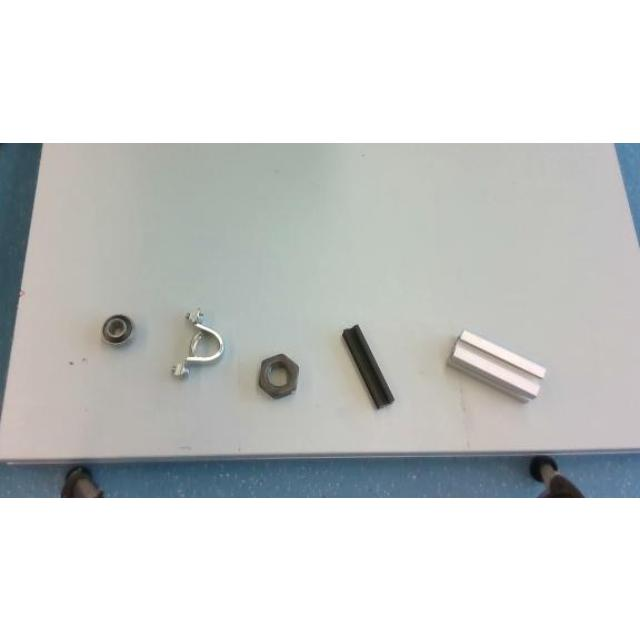Bearing2: (101, 314, 132, 344)
F20_20_B: (342, 324, 393, 406)
Housing: (172, 306, 224, 378)
M30: (258, 354, 298, 396)
S40_40_G: (448, 330, 546, 400)
